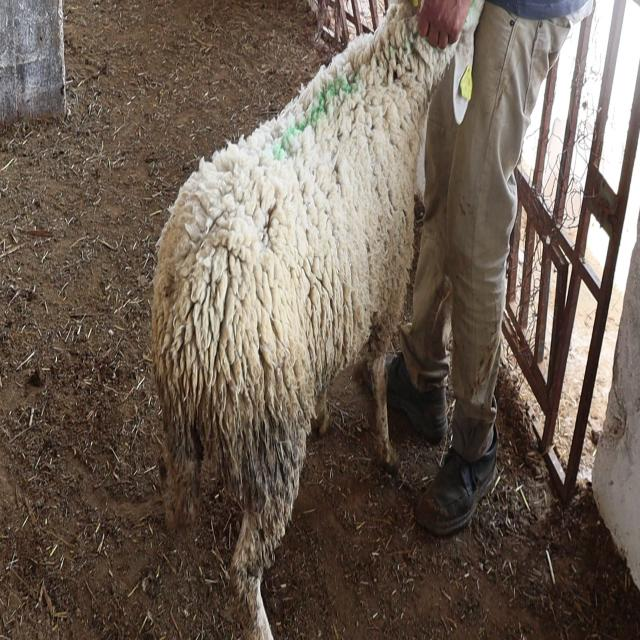Score_4: (152, 0, 483, 639)
